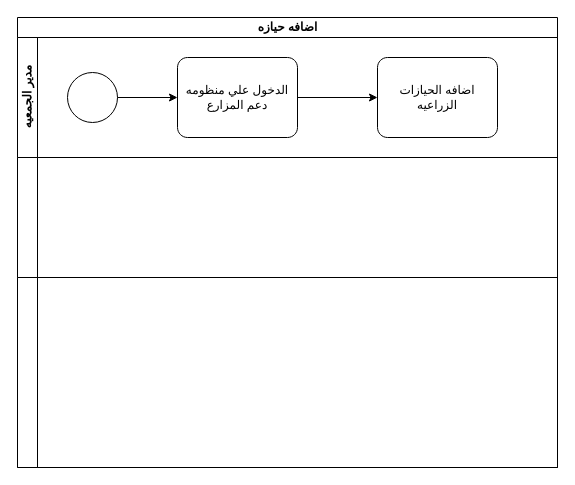
This 575x485 diagram has some shape labels left out. The shapes that lost their labels are listed below. From the top down, each one's centre as x and y in pixels, then its label:
point 287,217: الاداره الزراعيه
point 287,372: مديريه الزراعه
